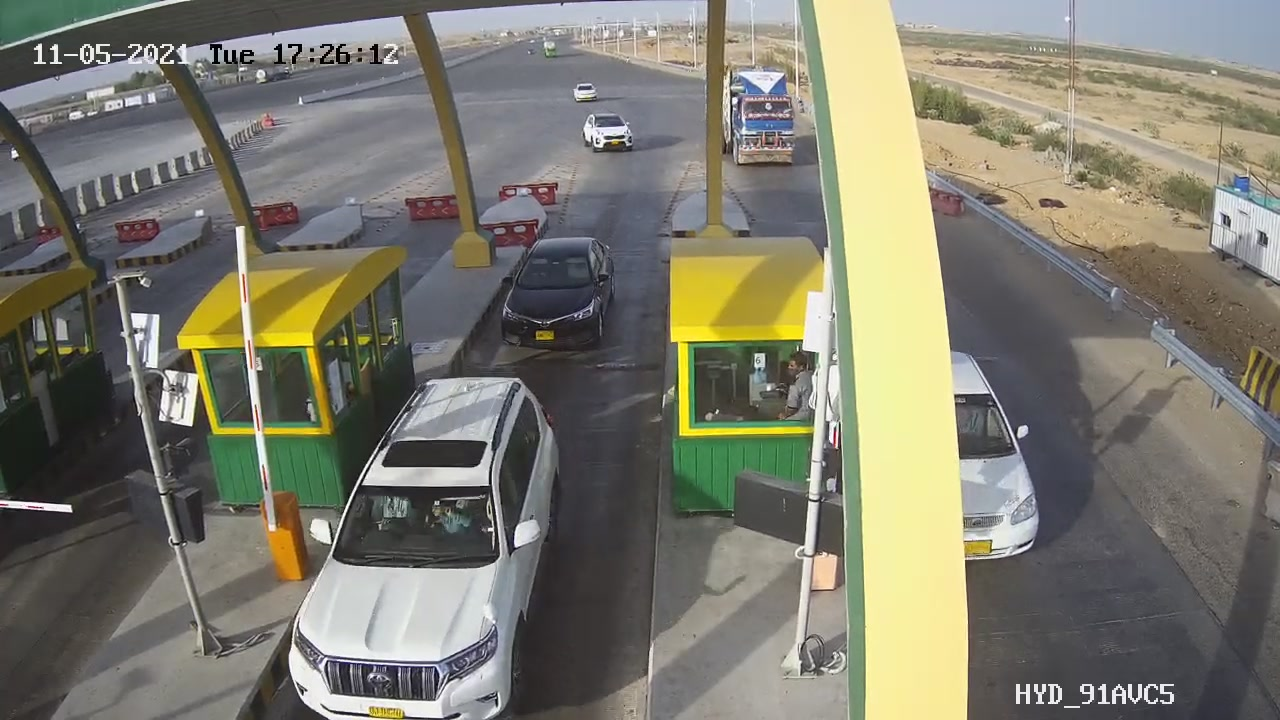F1: (482, 221, 639, 373)
